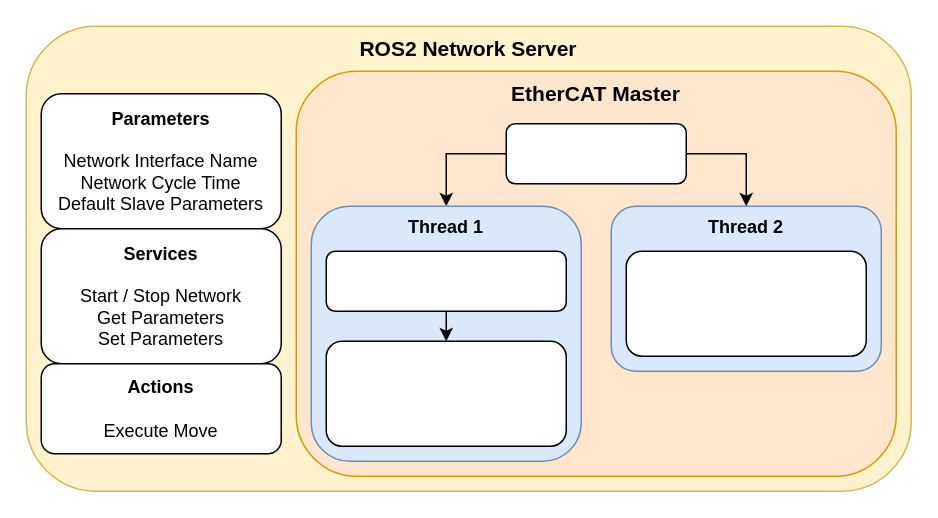
Some shapes in this 938 by 518 pixel diagram are drawn without their labels. Each missing label, with the centre of its shape:
Async Spin: the point at 595,153
Error Handler Loop Checking EC states Recovering slaves: the point at 745,303
Main Loop Send process data Receive process data: the point at 445,393
Network Initialization: the point at 445,280
